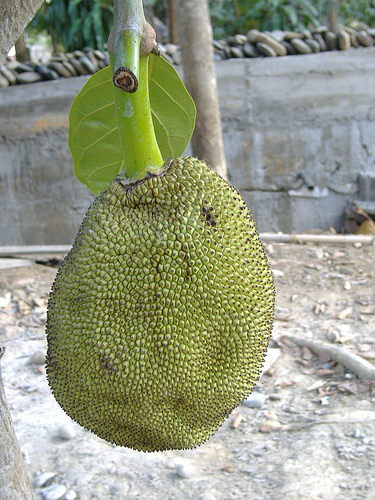jackfruit: (46, 152, 275, 452)
